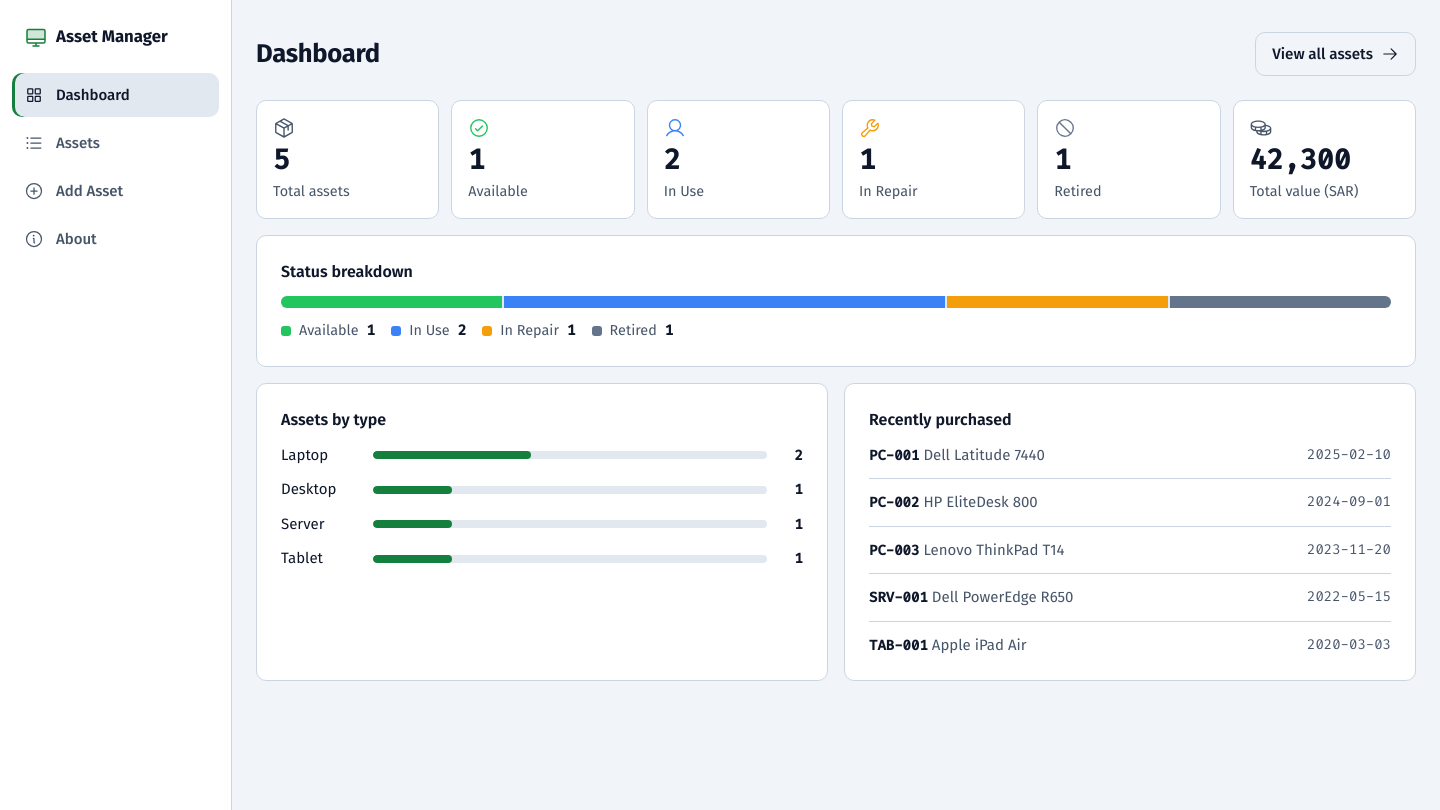
Test: UI (integrated with the backend API) › navigates with the menu to About and shows the team
Click the link "About": (60, 239) 24,229 -> 97,249
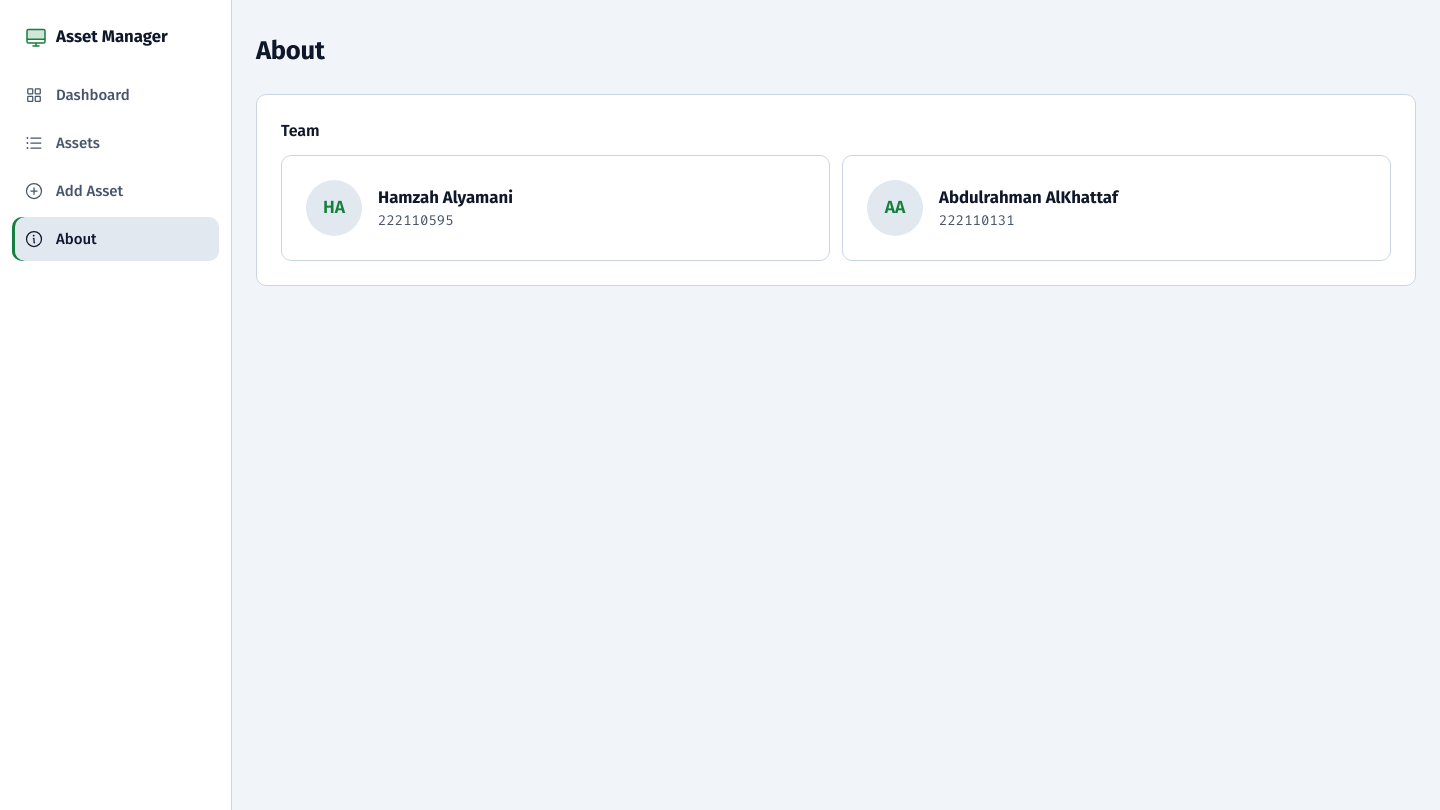
Now the heading "Team" is shown, box 281,121 -> 320,140
